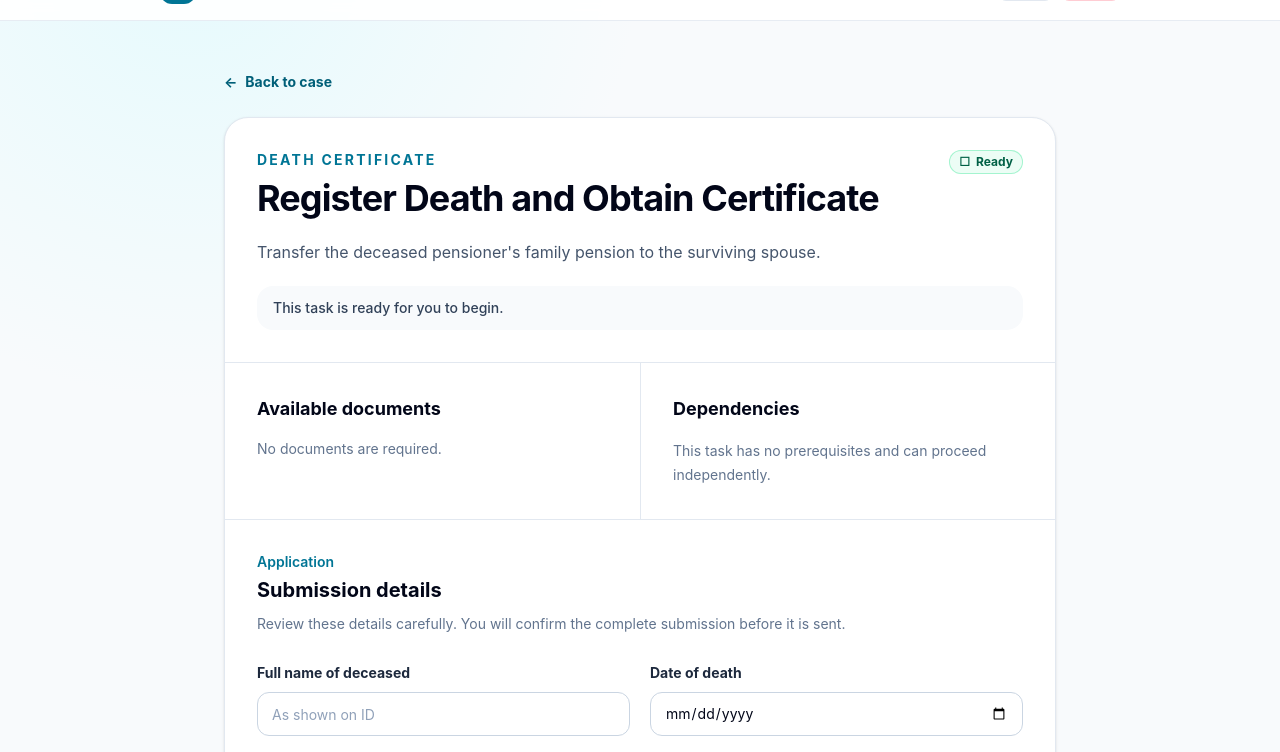
Test: cancel rejects the approval and returns the task to ready
The width and height of the screenshot is (1280, 752).
Check: the heading "Register Death and Obtain Certificate" is shown, box [257,178,879,218]
Type "Arun Rao" into the field labelled "Full name of deceased" at (444, 714), box [257,692,630,736]
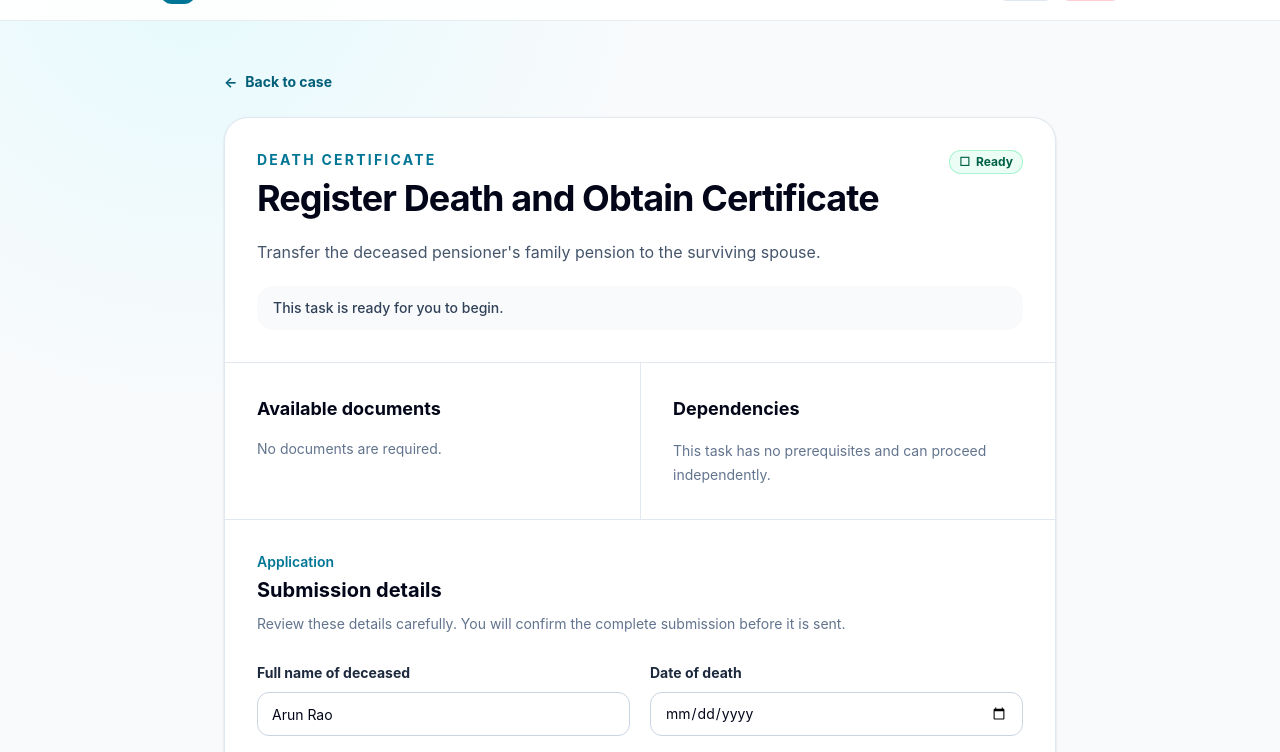
Type "2026-08-10" into the date field labelled "Date of death" at (836, 714), box [650,692,1023,736]
(page scrolled)
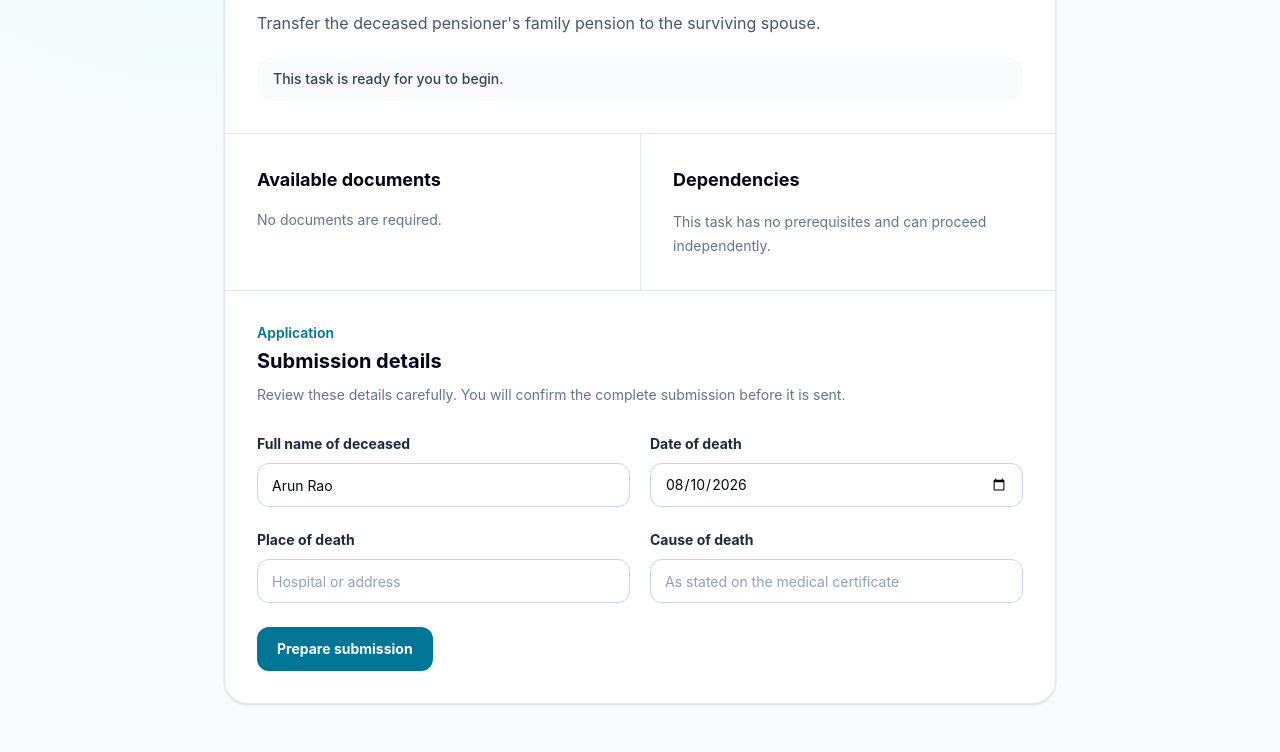
Type "Bengaluru" into the field labelled "Place of death" at (444, 581), box [257,559,630,603]
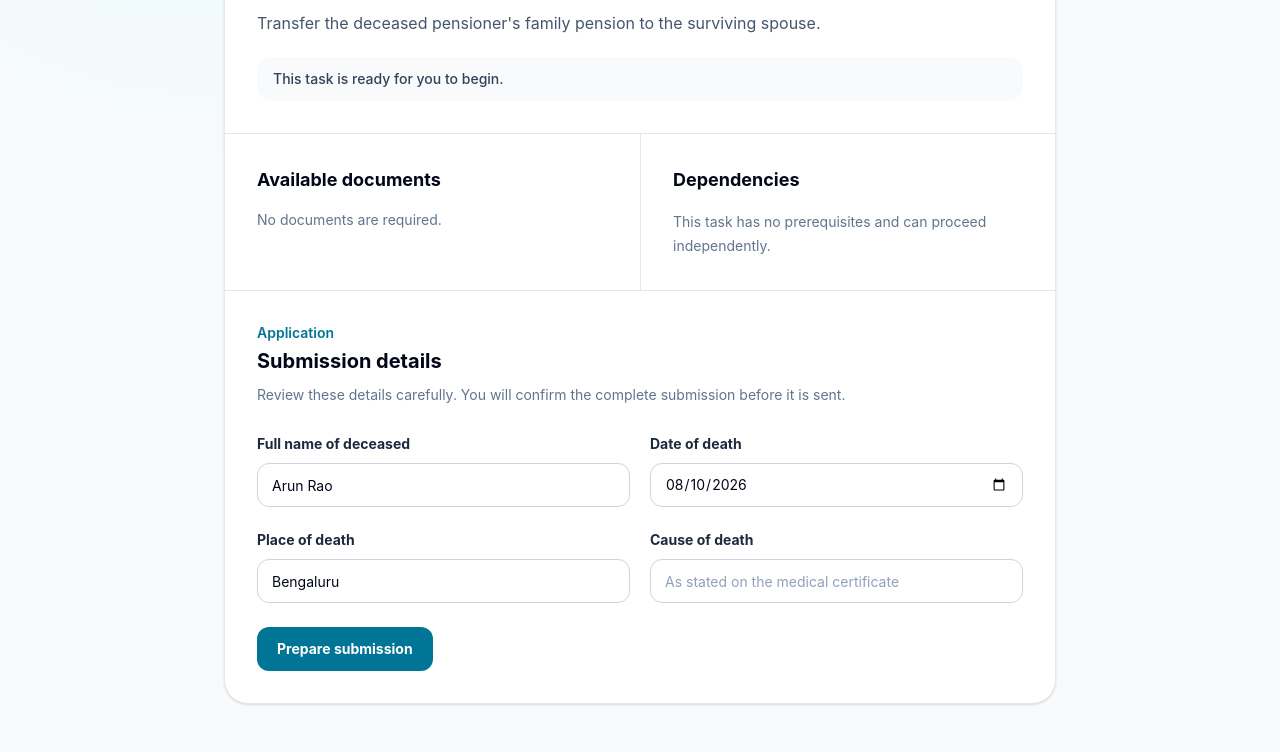
Type "Natural causes" into the field labelled "Cause of death" at (836, 581), box [650,559,1023,603]
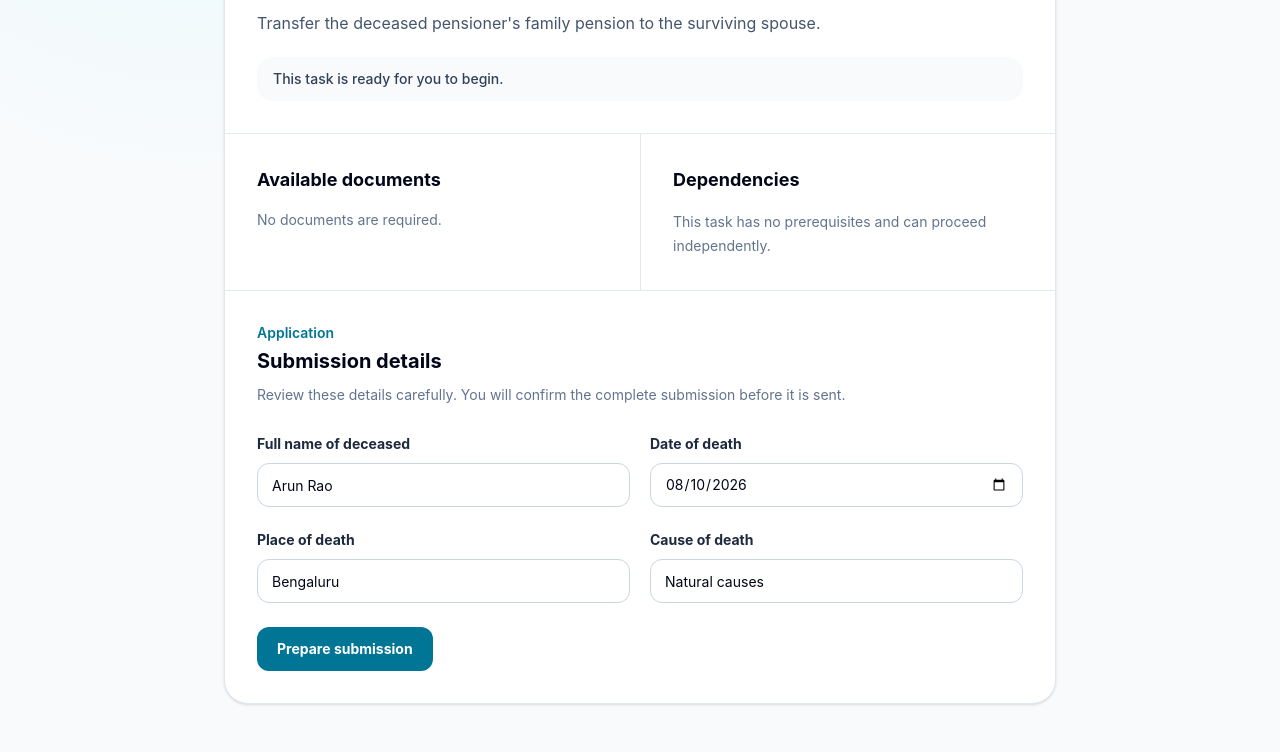
Click the button "Prepare submission" at (345, 649), box [257,627,433,671]
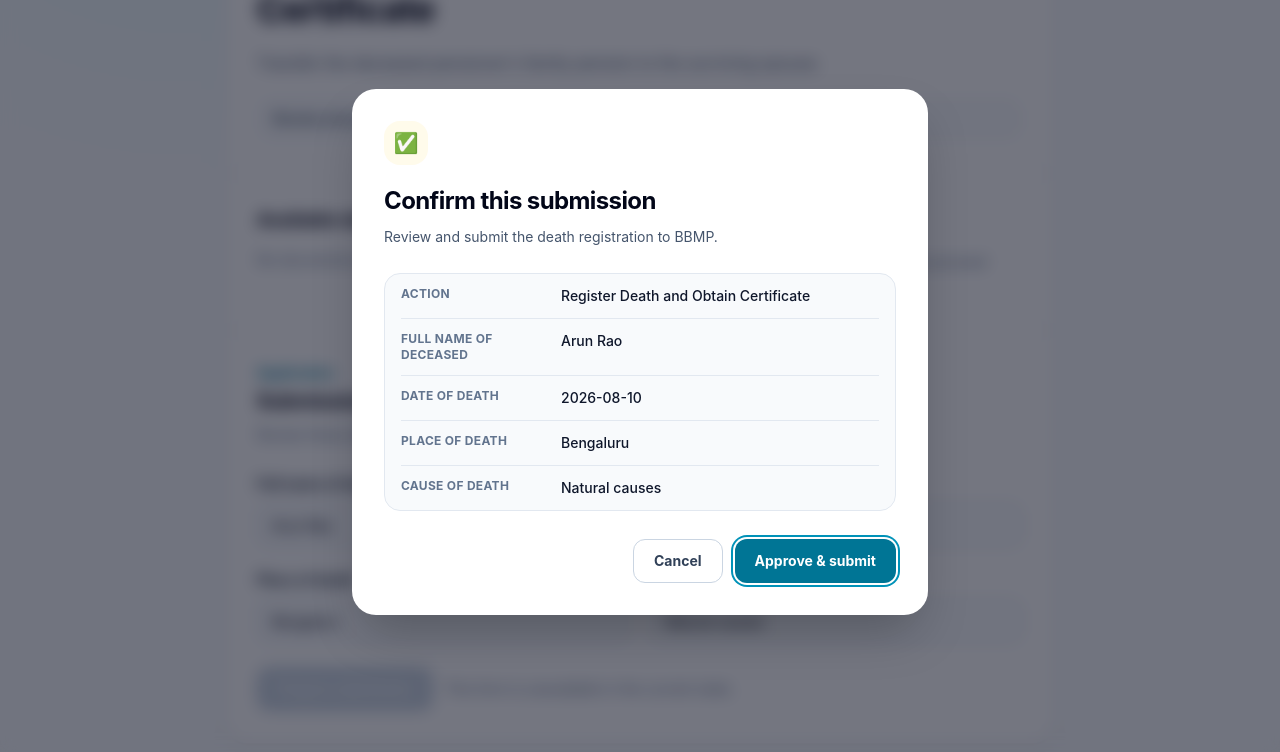
Check: the dialog is shown, box [352,89,928,615]
Click the button "Cancel" at (678, 561), box [633,539,723,583]
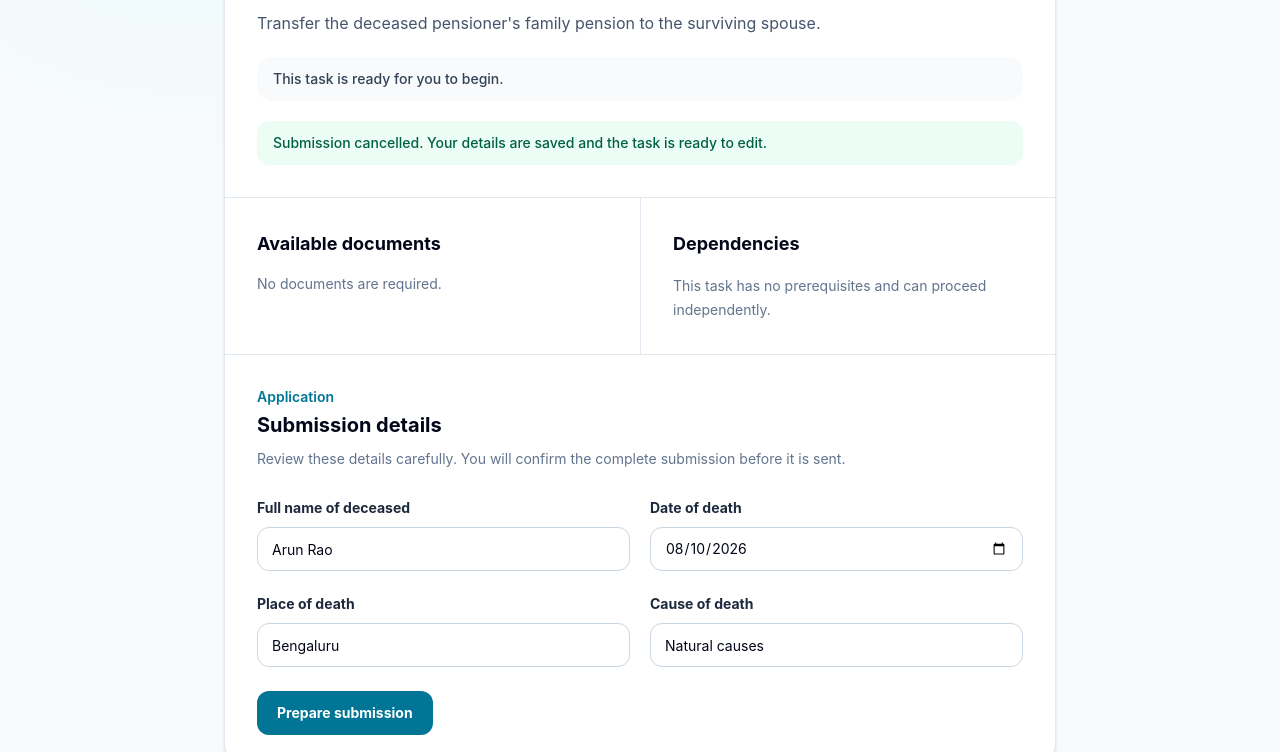
Check: the dialog is gone
Check: the text "Submission cancelled. Your details are saved and the task is ready to edit." is shown, box [257,121,1023,165]
Check: the button "Prepare submission" is enabled, box [257,691,433,735]
